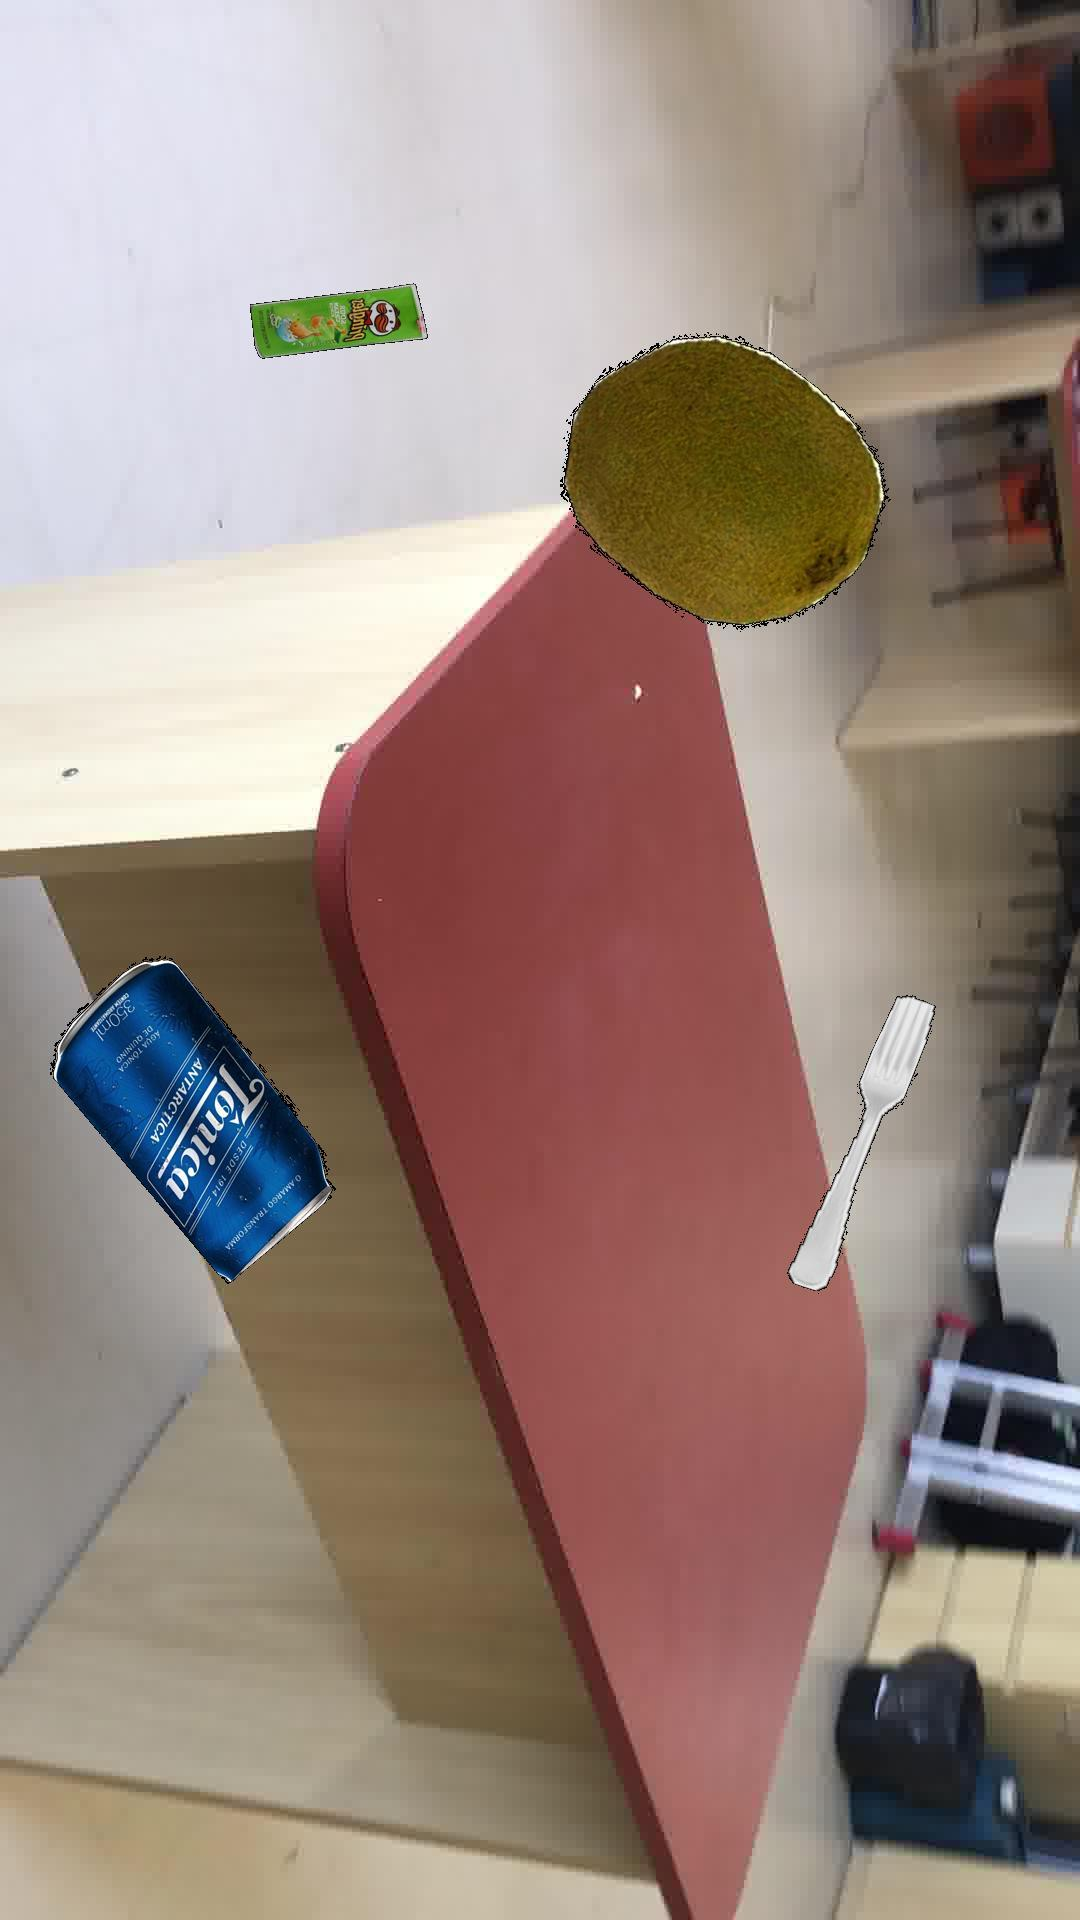fork: (786, 993, 935, 1290)
kiwi: (559, 334, 887, 629)
pringles: (248, 281, 426, 357)
tonic: (49, 956, 335, 1283)
